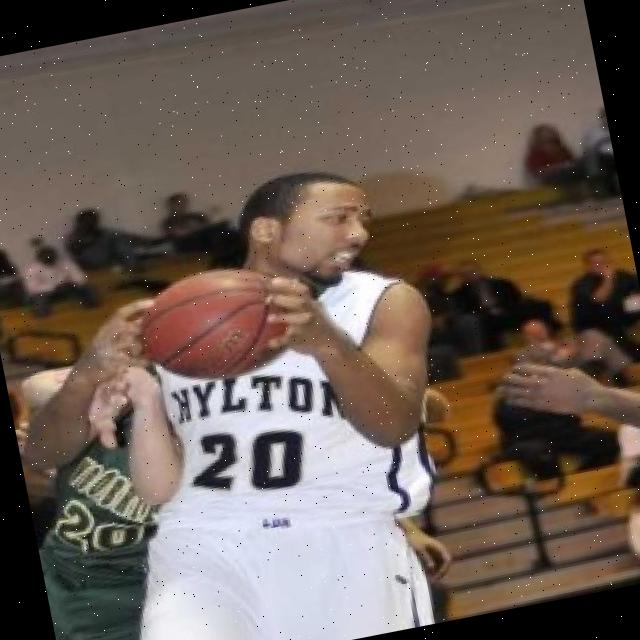ball: (128, 248, 311, 404)
